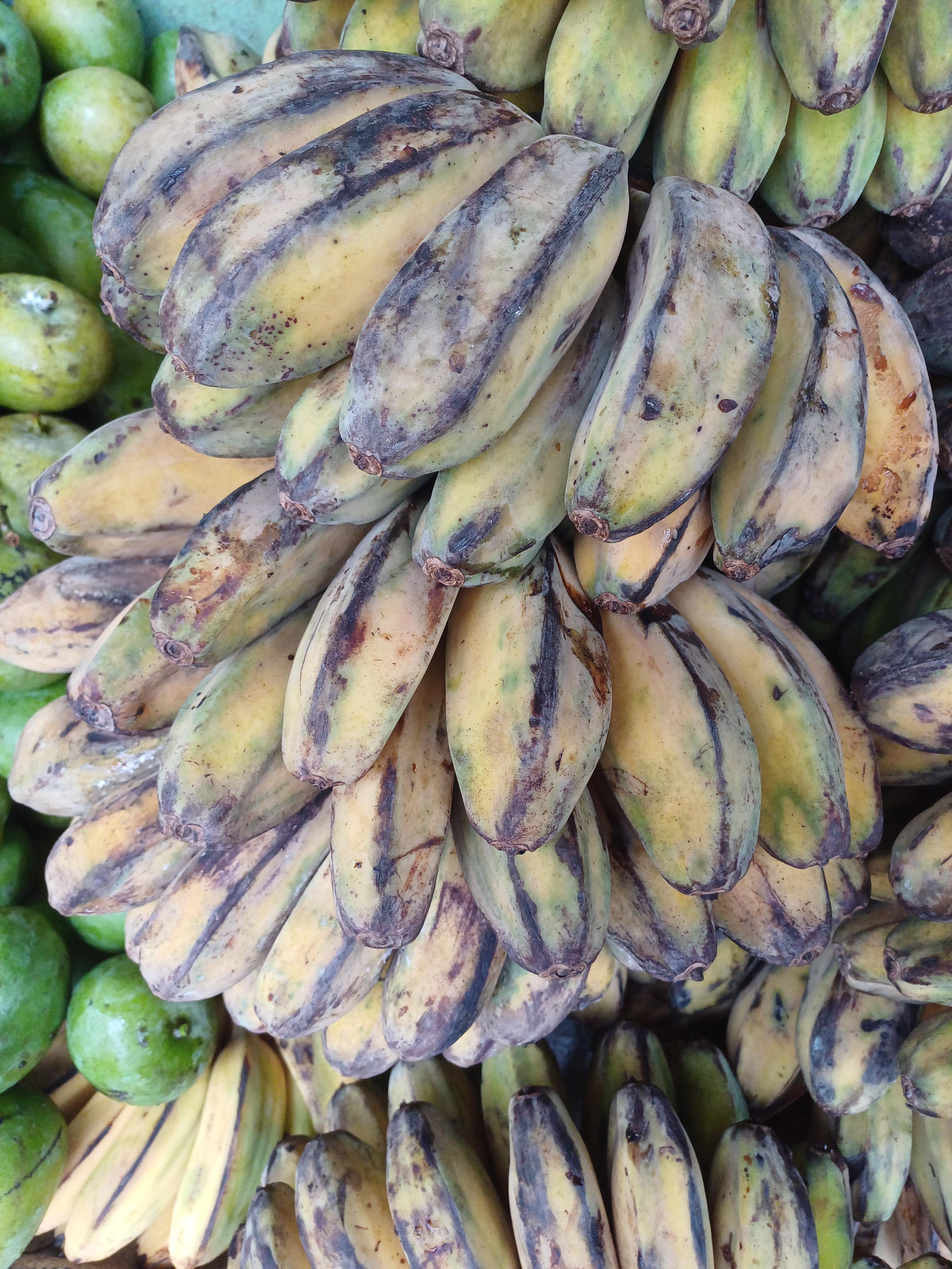overripe: (0, 409, 615, 1079)
underripe: (94, 50, 937, 613), (71, 470, 883, 976), (276, 0, 952, 227), (238, 1021, 853, 1269), (34, 1030, 288, 1269)
